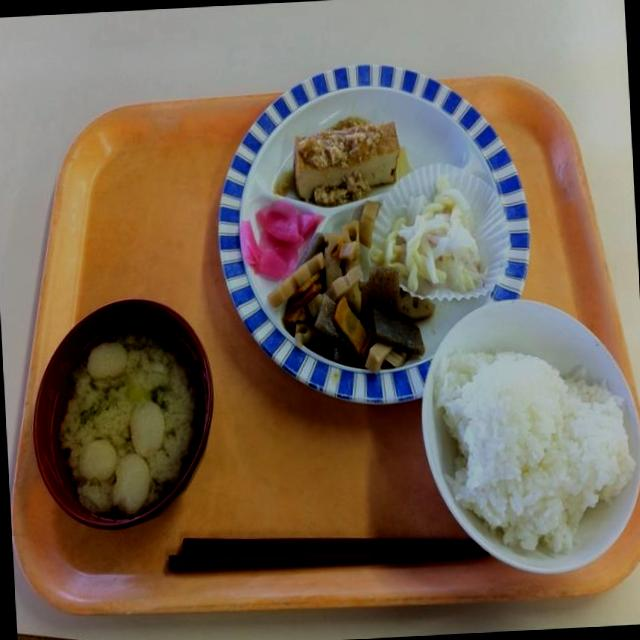Rice: (402, 286, 640, 588)
